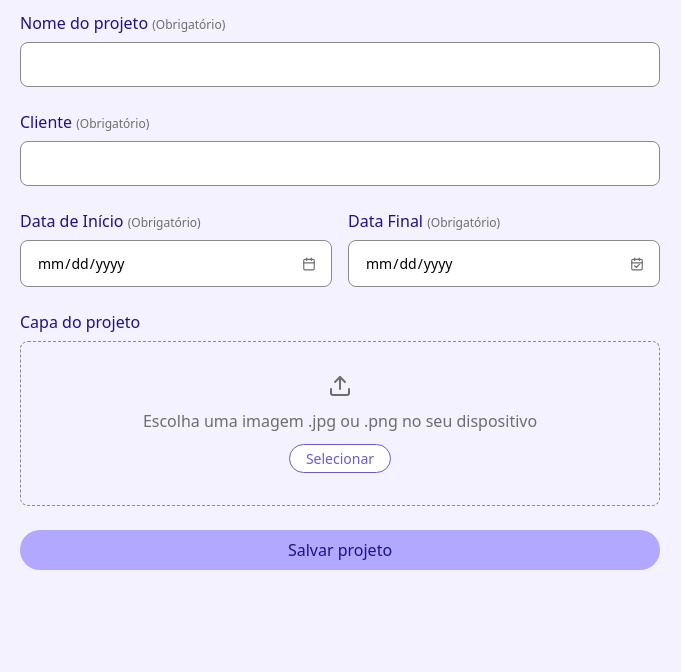
Test: ProjectForm › mostra os erros de validação ao tentar enviar um formulário vazio
Click the button "Salvar projeto" at (340, 550), box [20,530,660,570]
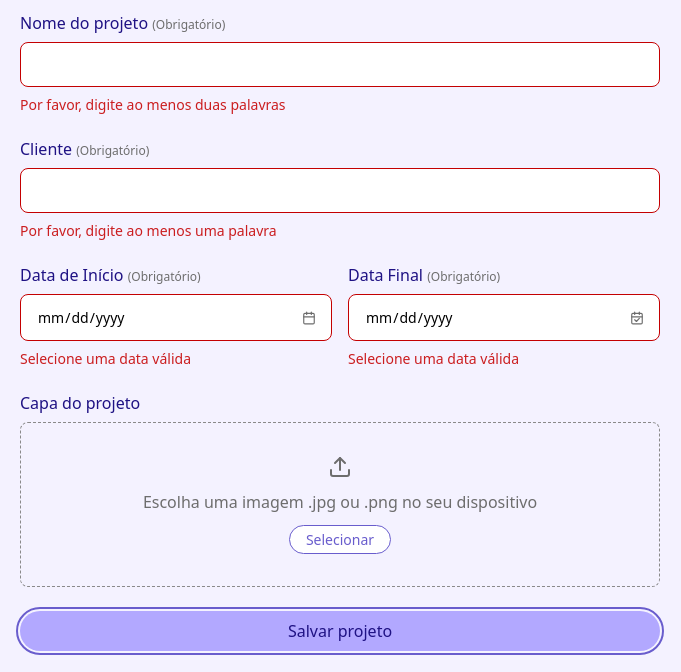
Result: the text "Por favor, digite ao menos duas palavras" is shown at [20,95,286,114]
Result: the text "Por favor, digite ao menos uma palavra" is shown at [20,221,277,240]
